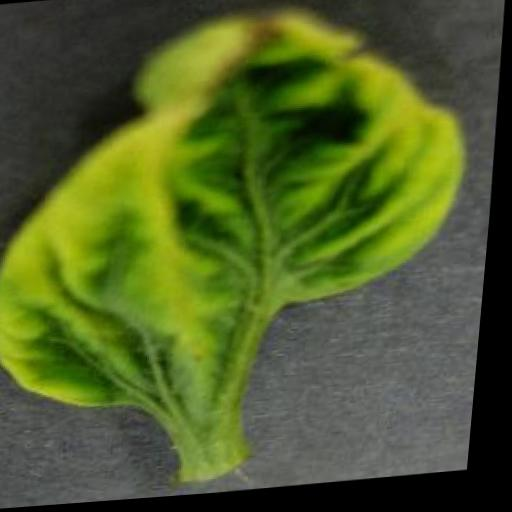Yellow Leaf Curl Virus: (0, 0, 484, 421)
